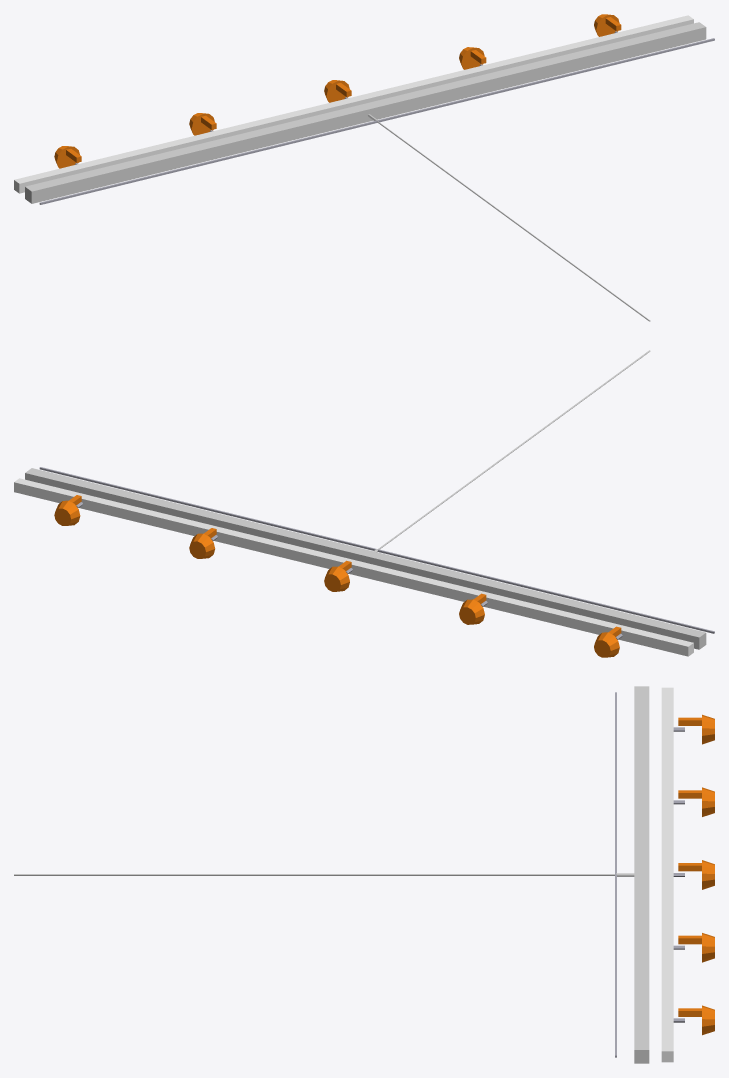
File: drinker_line.obj
3 renders of one model, top to bottom at view 1: azimuth 30°, elevation 25°; view 2: azimuth 150°, elevation 25°; view 3: azimuth 270°, elevation 25°, orthographic. The views are drawn at different scales.
Bounding box in the file's own units: 2 × 0.07 × 1.63.
